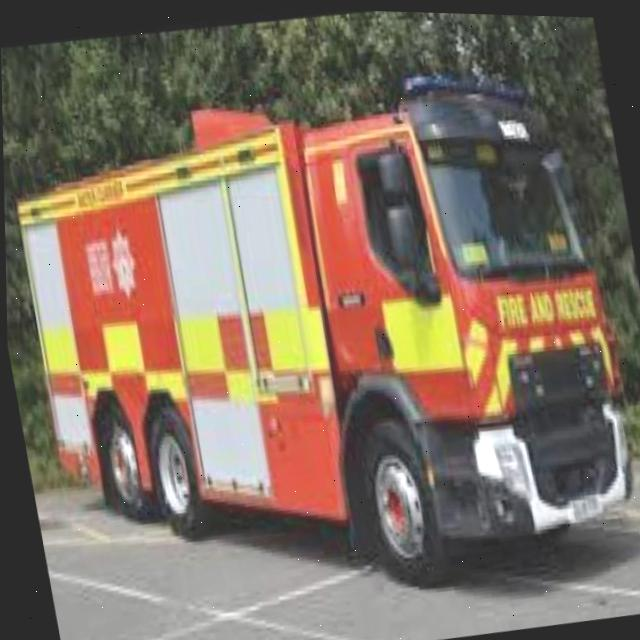emergency: (1, 34, 640, 640)
